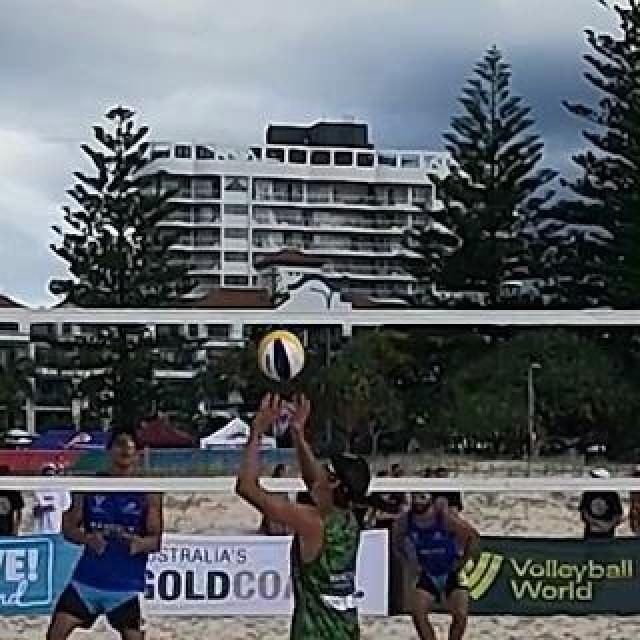volleyball: (257, 331, 305, 381)
